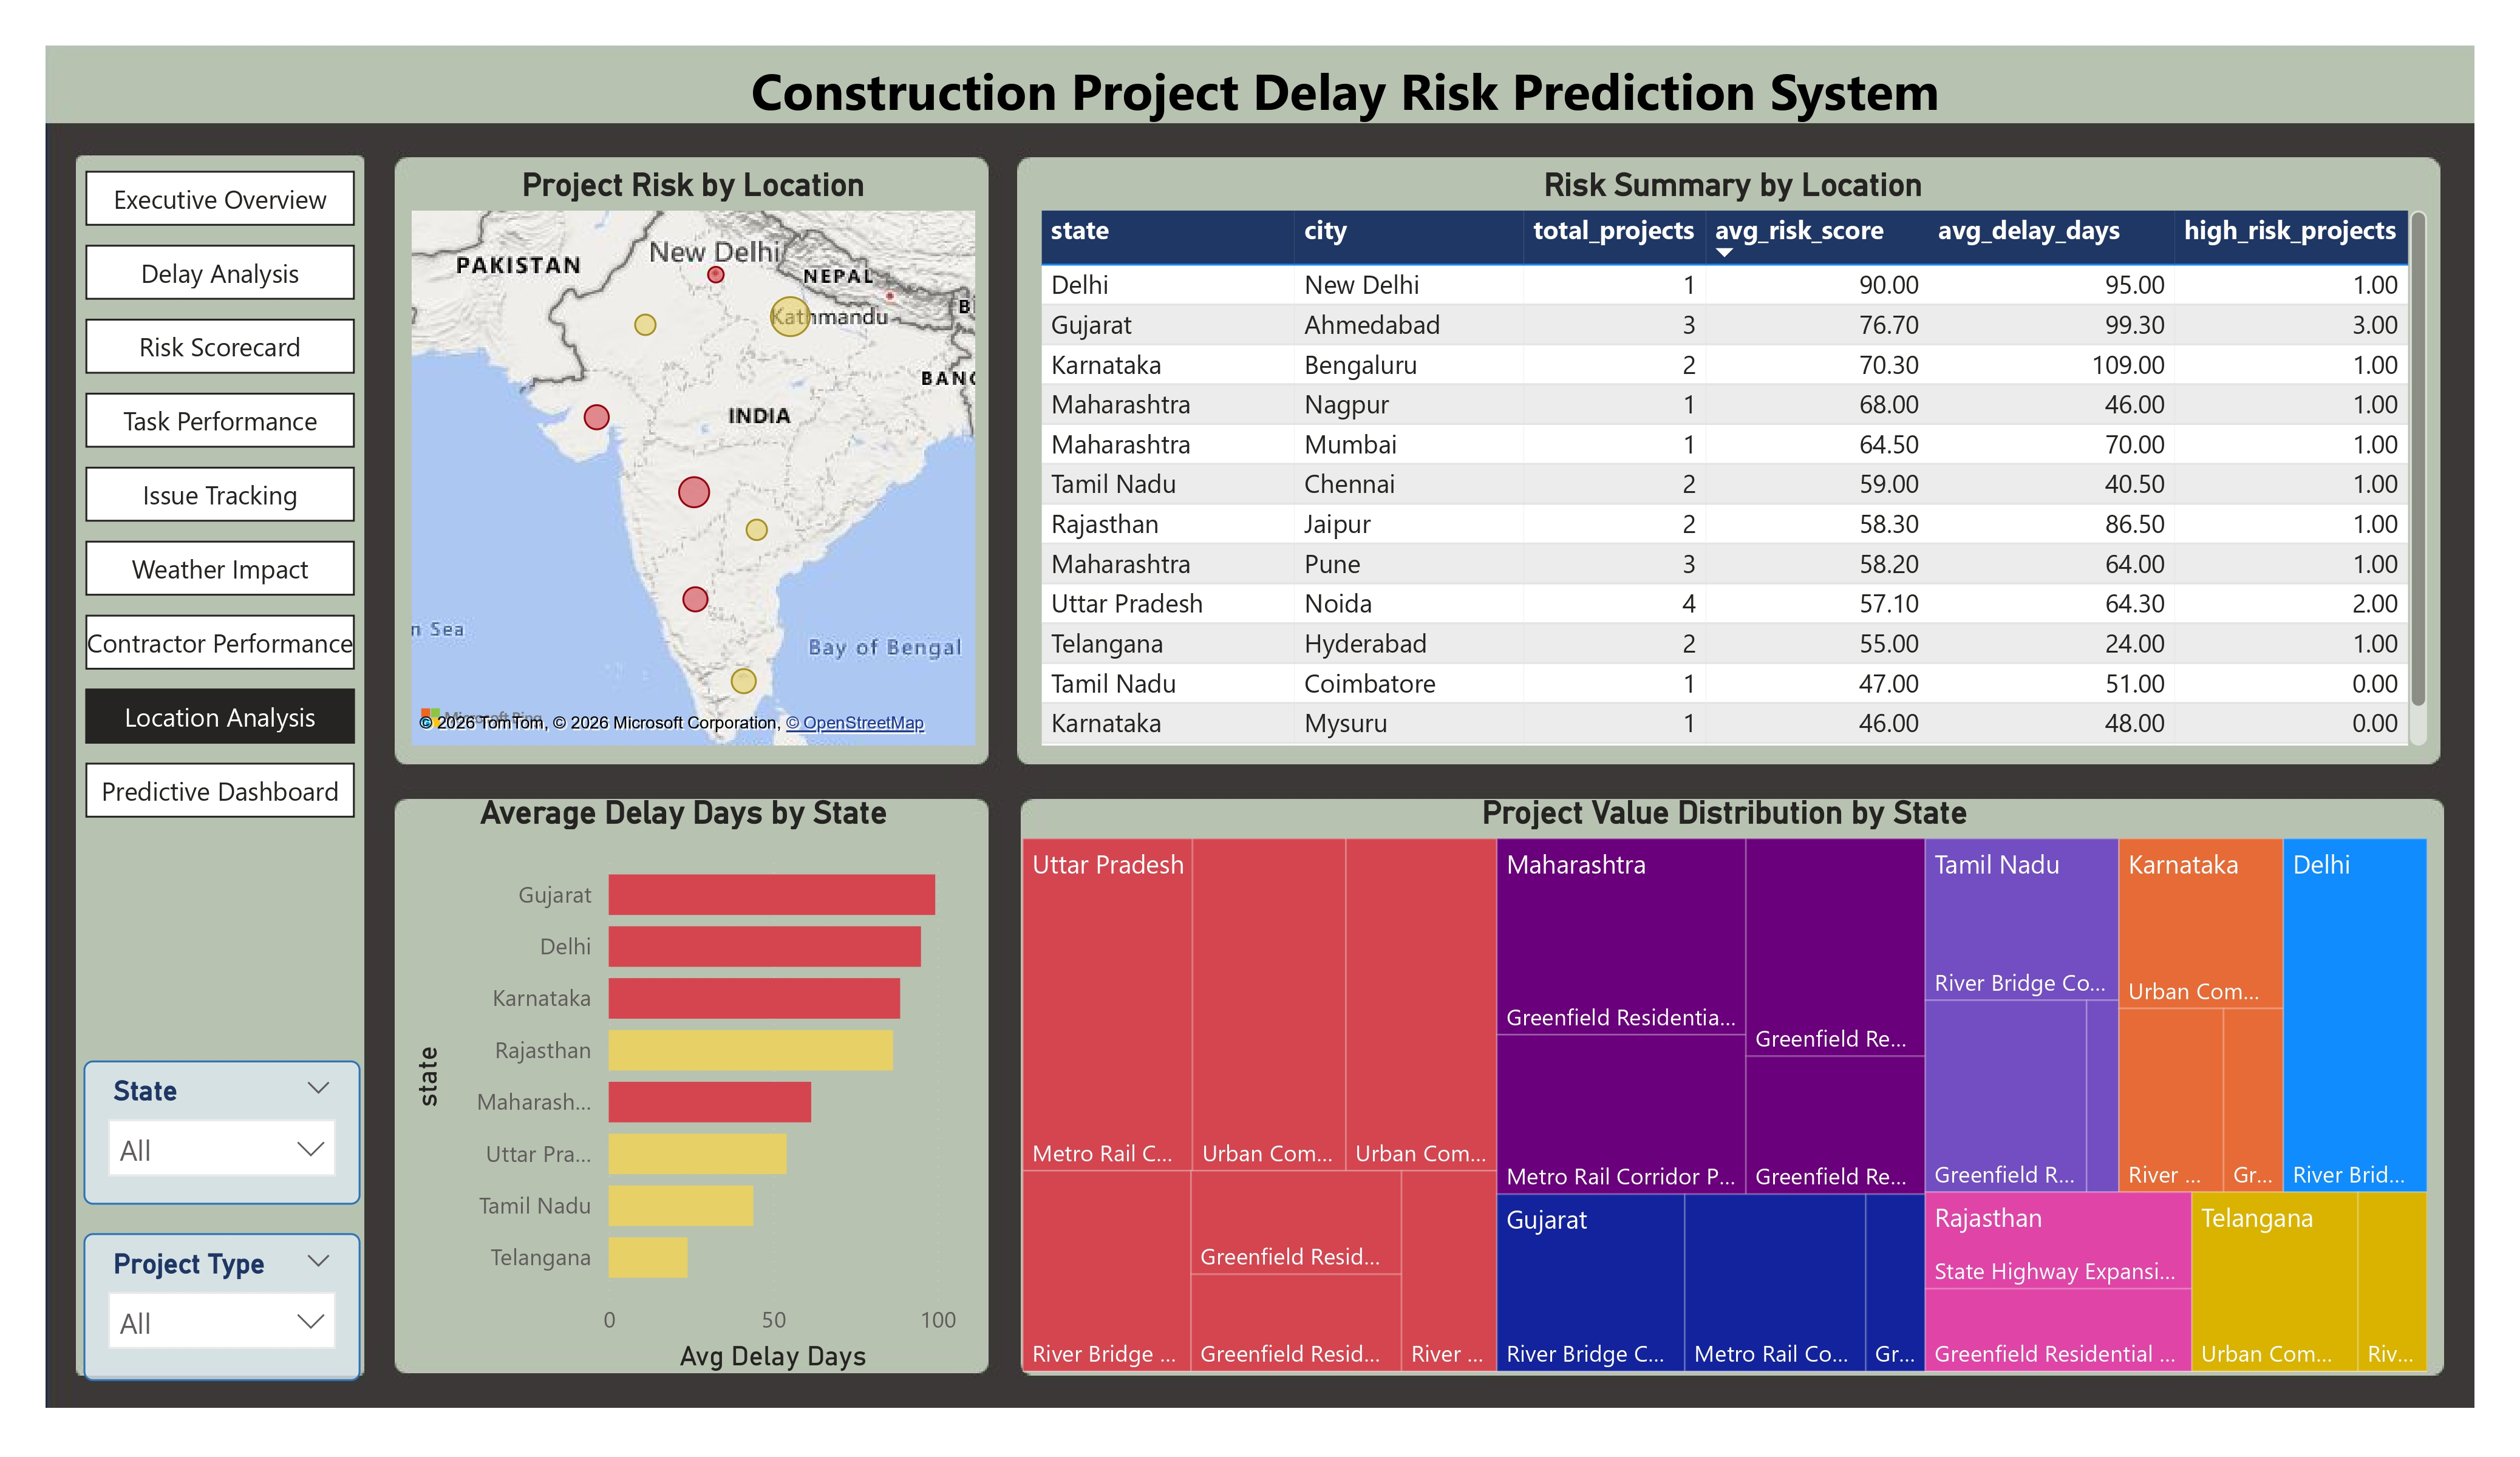

The dashboard page shown, as its layout file describes it:
{"tool":"powerbi","page":{"name":"Location Analysis","canvas":[1280,720],"ordinal":7},"visuals":[{"type":"tableEx","title":"Risk Summary by Location","fields":{"Values":["vw_locationrisk.state","vw_locationrisk.city","vw_locationrisk.total_projects","vw_locationrisk.avg_risk_score","vw_locationrisk.avg_delay_days","vw_locationrisk.high_risk_projects"]},"box":[518.8,62.5,741.2,311.2],"z":0},{"type":"map","title":"Project Risk by Location","fields":{"Category":["factprojectmetrics.state"],"Size":["**Measures**.Total Projects"]},"box":[187.5,62.5,307.5,311.2],"z":1000},{"type":"clusteredBarChart","title":"Average Delay Days by State","fields":{"Category":["factprojectmetrics.state"],"Y":["**Measures**.Avg Delay Days"]},"box":[187.5,393.8,297.5,310],"z":2000},{"type":"treemap","title":"Project Value Distribution by State","fields":{"Group":["factprojectmetrics.state"],"Details":["factprojectmetrics.project_name"],"Values":["**Measures**.Total Project Value"]},"box":[510,393.8,750,310],"z":3000},{"type":"slicer","fields":{"Values":["factprojectmetrics.state"]},"box":[20,535,146.2,76.2],"z":4000},{"type":"slicer","fields":{"Values":["factprojectmetrics.project_type"]},"box":[20,626.2,146.2,77.5],"z":5000},{"type":"pageNavigator","box":[21.2,66.2,141.2,343.8],"z":6000},{"type":"textbox","box":[366.7,0,656,56],"z":6001}]}

Visuals, with their boxes in screenshot pixels (x1, y1, x2, y2):
"Risk Summary by Location" tableEx: x1=1034 y1=154 x2=2473 y2=758
"Project Risk by Location" map: x1=390 y1=154 x2=987 y2=758
"Average Delay Days by State" clusteredBarChart: x1=390 y1=797 x2=968 y2=1399
"Project Value Distribution by State" treemap: x1=1017 y1=797 x2=2473 y2=1399
slicer - factprojectmetrics.state: x1=65 y1=1072 x2=349 y2=1219
slicer - factprojectmetrics.project_type: x1=65 y1=1248 x2=349 y2=1399
pageNavigator: x1=67 y1=161 x2=341 y2=829
textbox: x1=738 y1=33 x2=2012 y2=141
